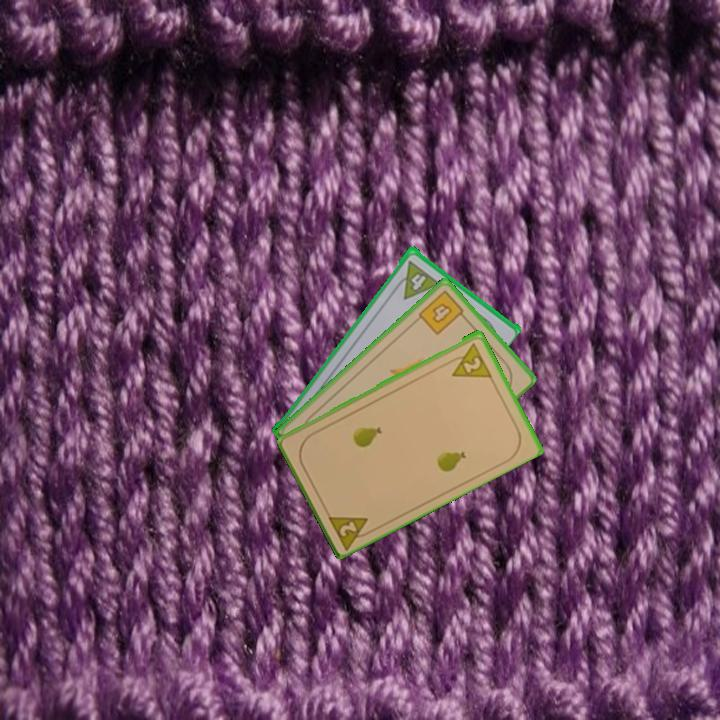2p: (324, 510, 378, 551), (444, 338, 494, 380)
4b: (415, 286, 470, 338)
4p: (402, 267, 441, 302)
